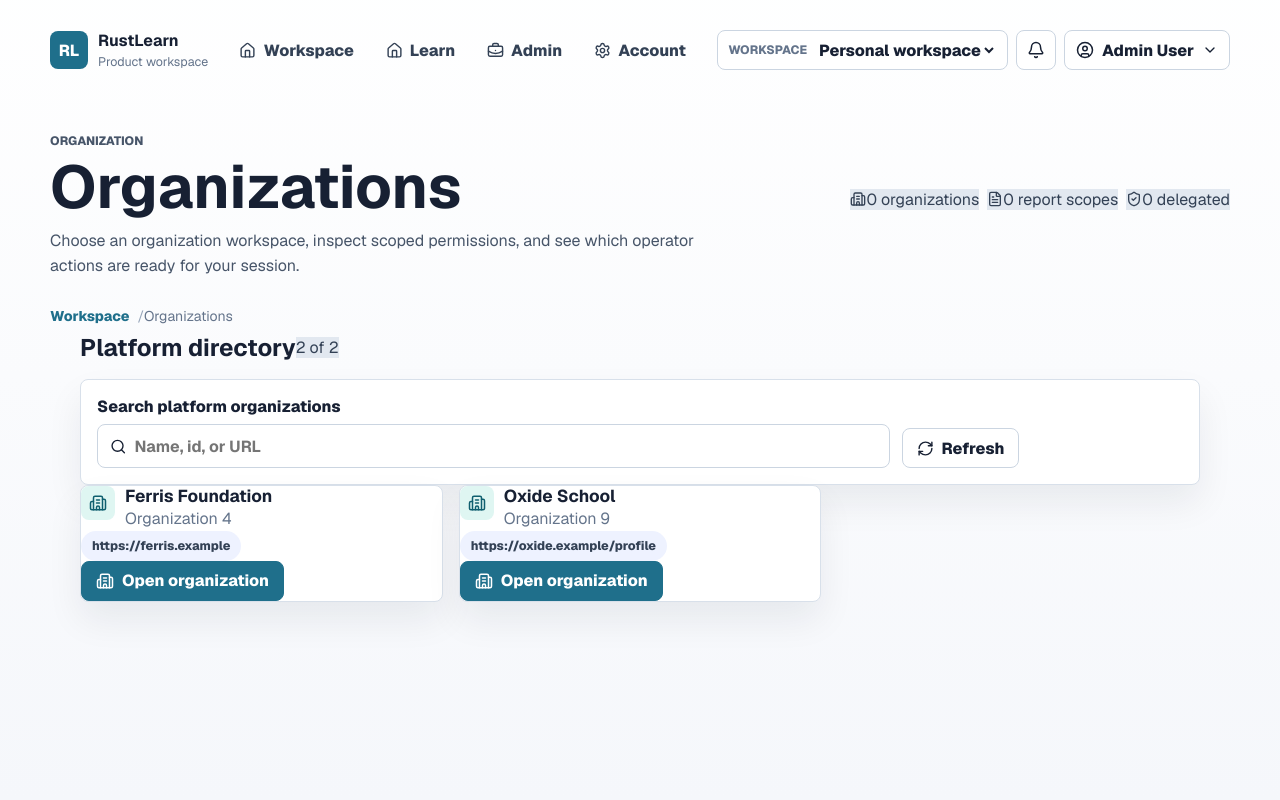
Test: OrganizationIndexRoute › filters platform organizations by search
Expected: the heading "Ferris Foundation" is shown, [125, 486, 272, 507]
Type "oxide" into the search field with placeholder "Name, id, or URL" at (506, 446), box [134, 425, 877, 467]
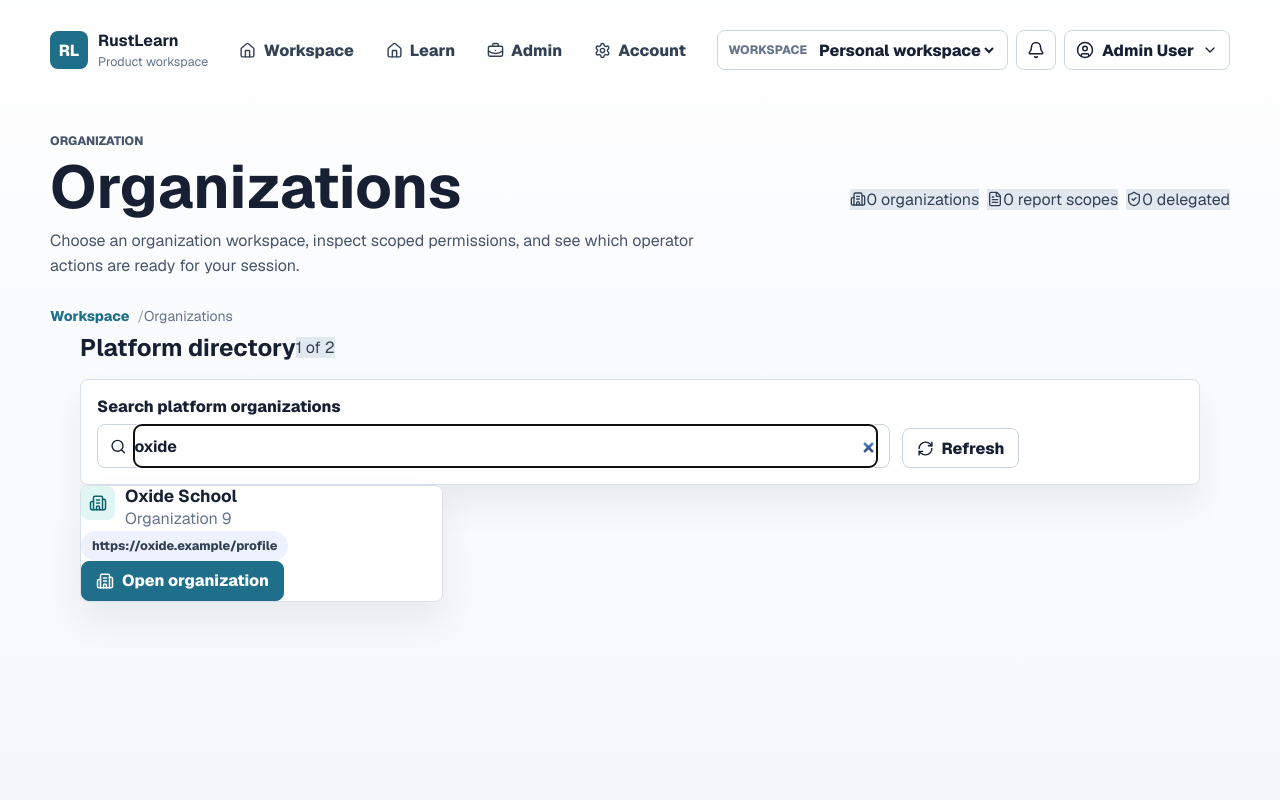
Expected: the heading "Oxide School" is shown, [125, 486, 237, 507]
Expected: the heading "Ferris Foundation" is gone
